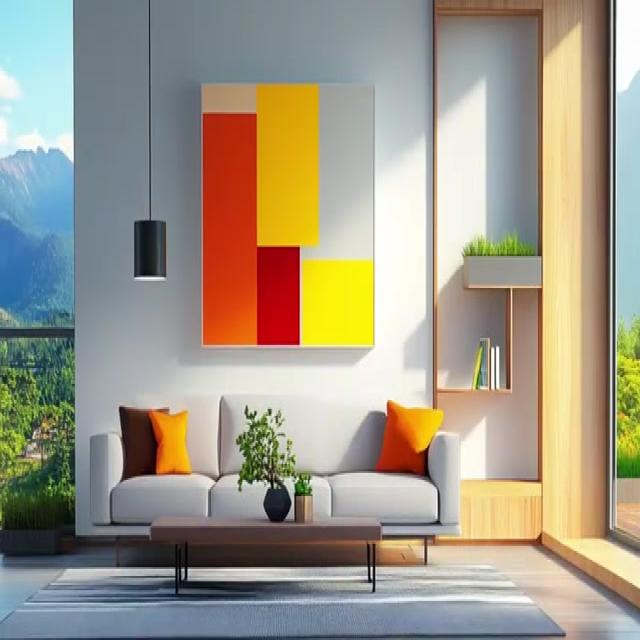obstacle: (89, 393, 461, 546), (149, 516, 382, 594)
